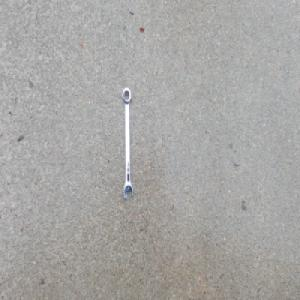Wrench: (121, 85, 133, 201)
